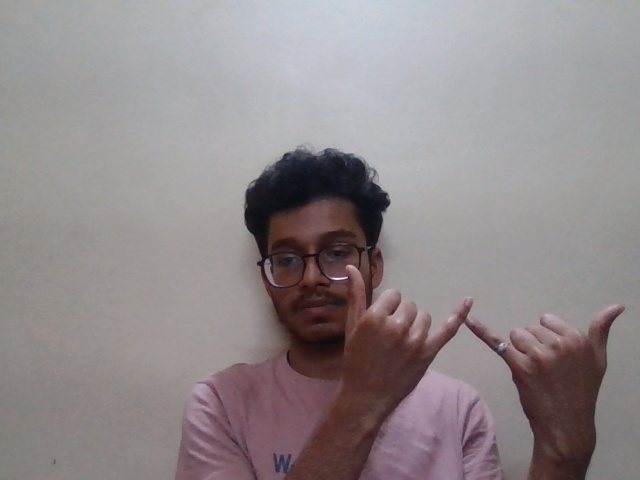today: (334, 263, 630, 415)
